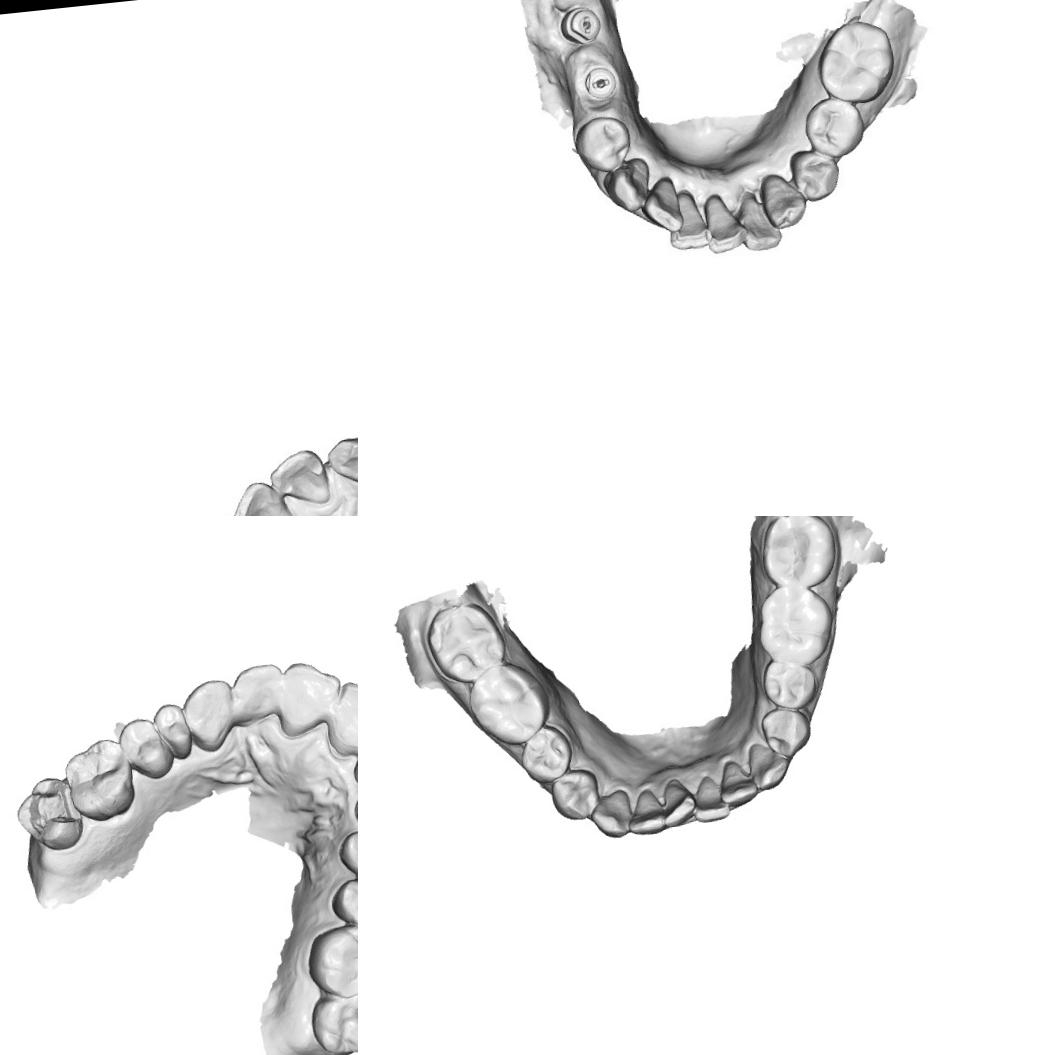canine: (178, 675, 239, 758), (758, 170, 810, 232), (604, 156, 654, 215), (588, 787, 635, 842), (746, 738, 792, 793), (324, 430, 358, 487)
implant_minus: (556, 2, 604, 50), (578, 58, 623, 108)
incisor: (274, 658, 346, 739), (266, 446, 336, 515), (229, 660, 285, 724), (224, 475, 300, 516), (736, 190, 784, 254), (701, 190, 746, 256), (664, 193, 713, 252), (322, 676, 358, 756), (639, 174, 685, 235), (716, 756, 761, 810), (623, 786, 668, 837), (658, 775, 700, 828), (690, 772, 732, 822)
molar: (811, 15, 903, 105), (465, 659, 555, 750), (423, 598, 510, 686), (59, 734, 140, 826), (754, 580, 836, 668), (10, 772, 87, 856), (756, 516, 840, 592), (303, 916, 358, 1003), (307, 990, 358, 1055)
premolar: (798, 94, 866, 159), (116, 712, 177, 784), (569, 112, 635, 175), (517, 722, 575, 786), (786, 144, 844, 205), (758, 704, 815, 760), (760, 655, 818, 710), (548, 766, 603, 822), (150, 698, 194, 764), (327, 874, 358, 934), (335, 825, 358, 884)
